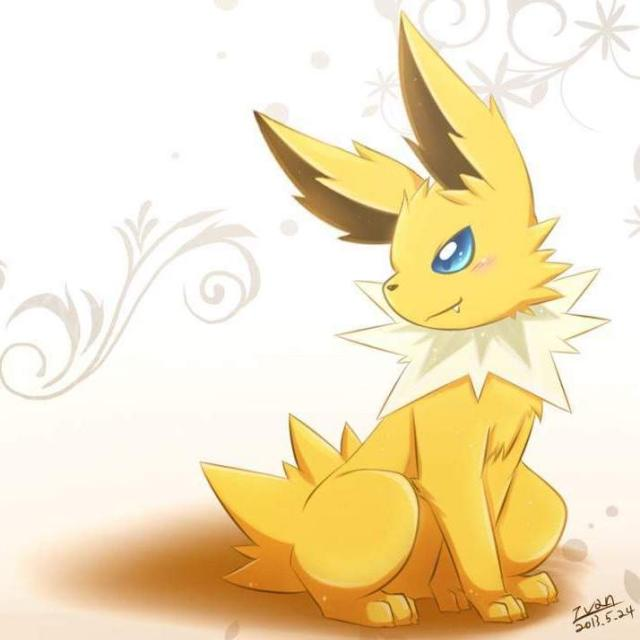Jolteon: (282, 154, 584, 622)
